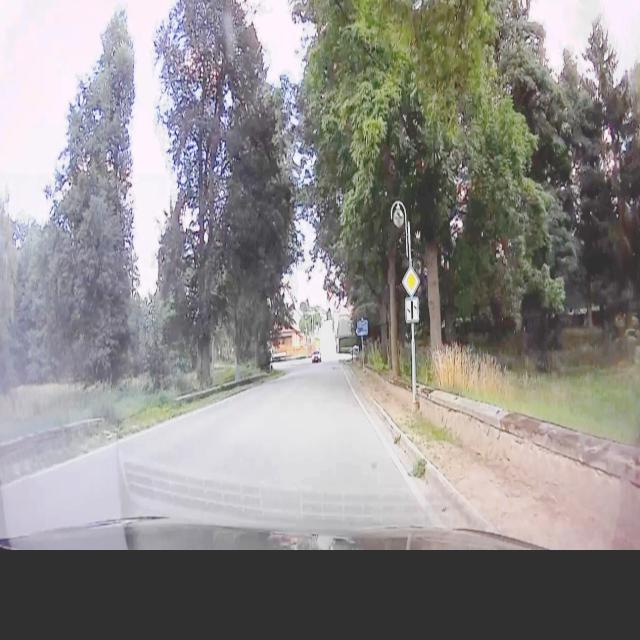Priority road: (401, 264, 420, 299)
